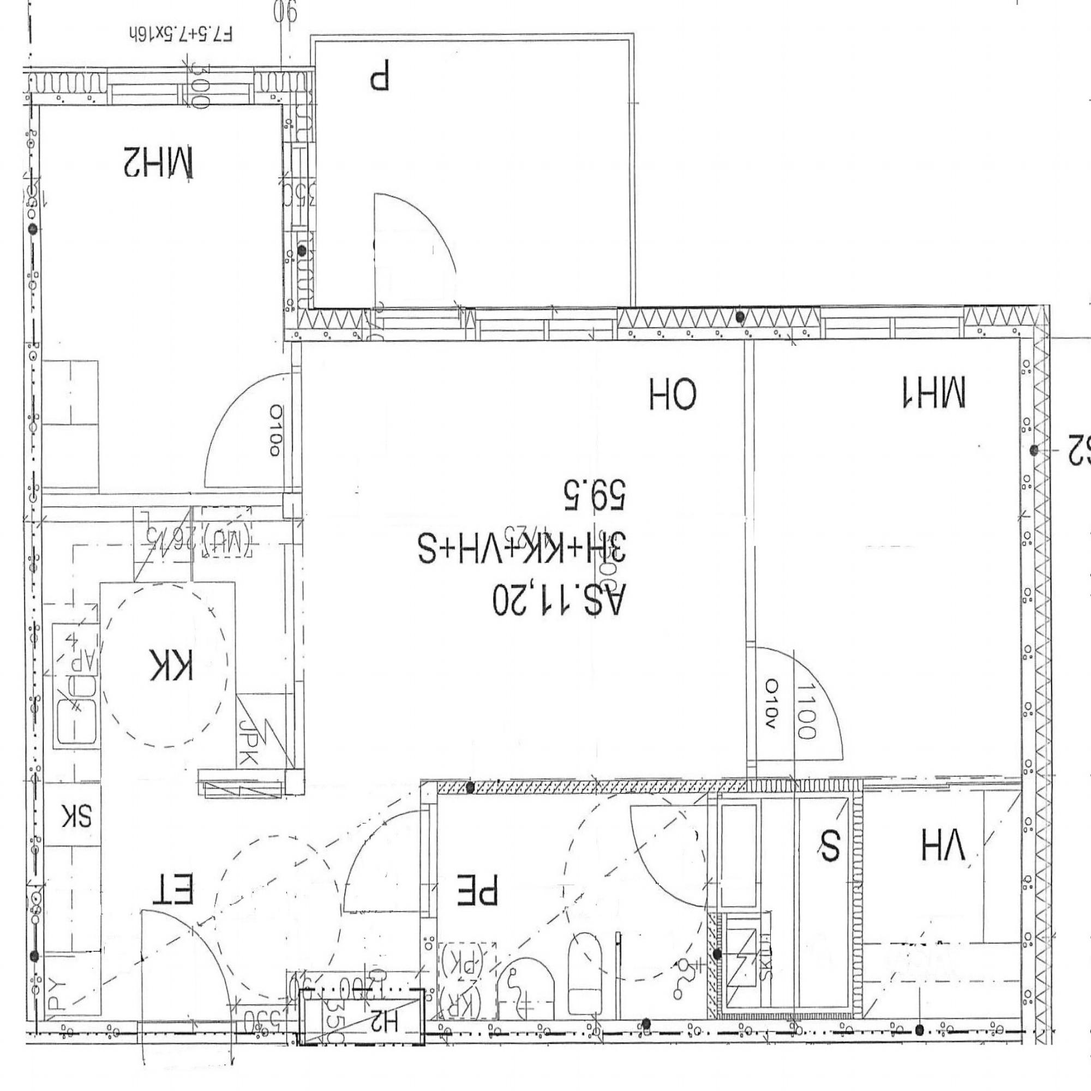wall: (284, 306, 1051, 342), (1019, 342, 1055, 1016), (420, 1007, 864, 1045), (20, 63, 317, 108), (23, 526, 46, 1020), (23, 492, 302, 523), (21, 1020, 304, 1047), (22, 109, 40, 492), (280, 112, 315, 307), (743, 341, 758, 777), (283, 522, 306, 768), (863, 1017, 1055, 1042), (420, 778, 706, 794), (286, 971, 437, 1001), (707, 779, 863, 803), (846, 804, 864, 1008), (197, 769, 306, 802), (707, 804, 724, 1010), (420, 793, 439, 970), (283, 343, 304, 491)
